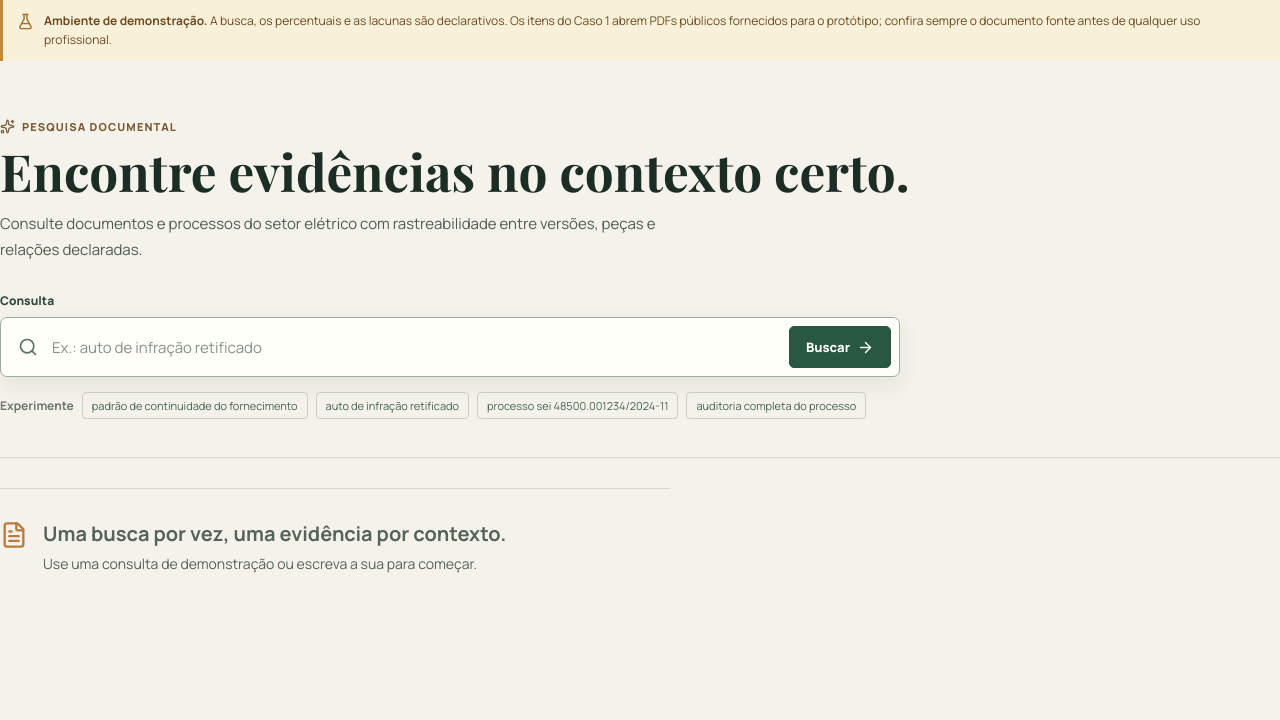
SearchPage › mostra mensagem de erro simples quando o envio de feedback falha, sem travar a página
Step 1. Click the button "auto de infração retificado" → (392, 406), box [316, 392, 469, 420]
(page scrolled)
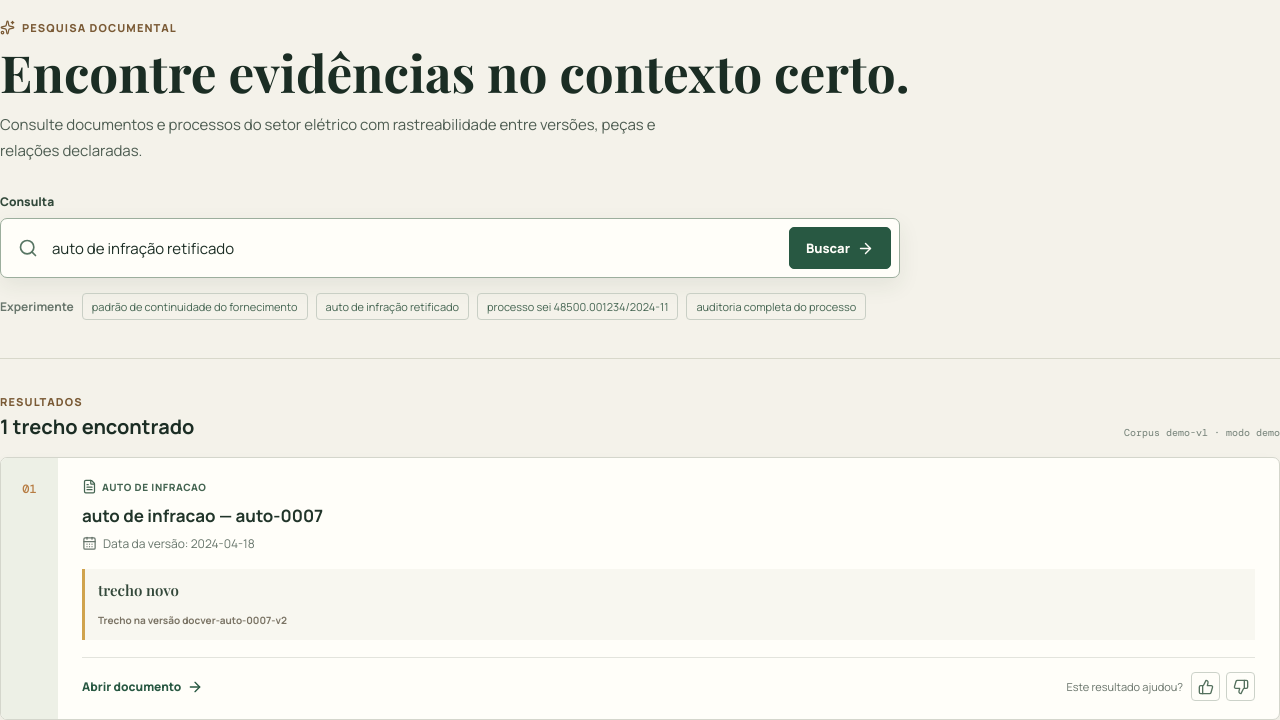
Now the button named "votar negativamente" is shown
Step 2. Click the button named "votar negativamente" → (1240, 687), box [1226, 672, 1255, 701]
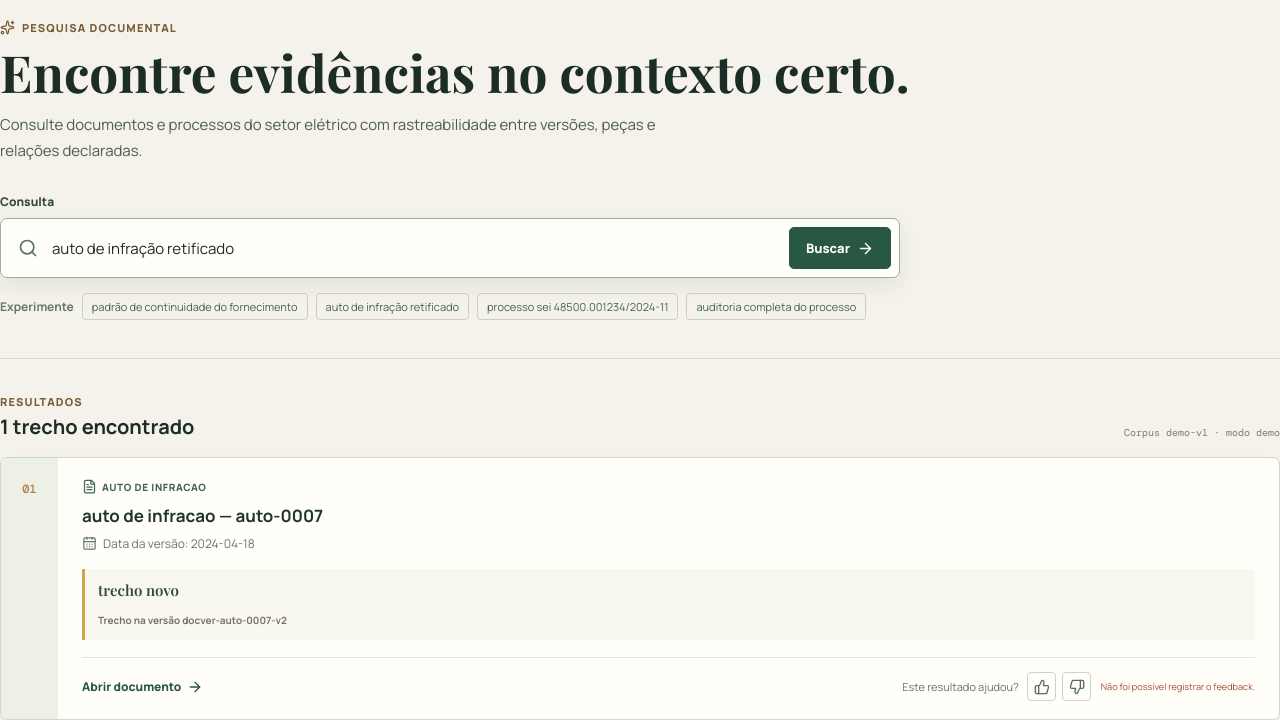
Now the button named "votar negativamente" is enabled, box [1062, 672, 1091, 701]
Now the text "Não foi possível registrar o feedback." is shown, box [1101, 680, 1255, 693]
